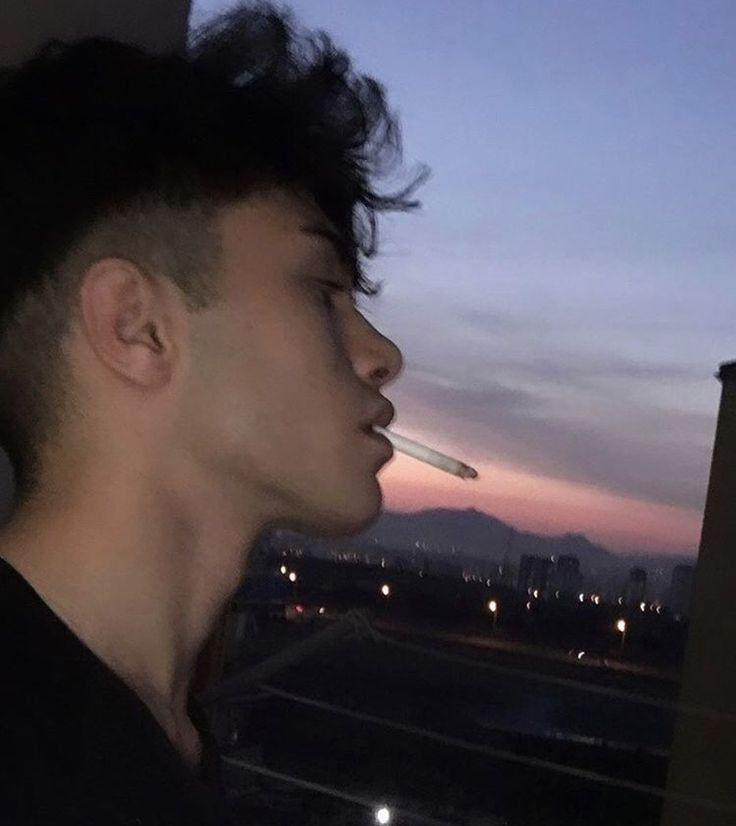cigarette: (372, 423, 478, 479)
